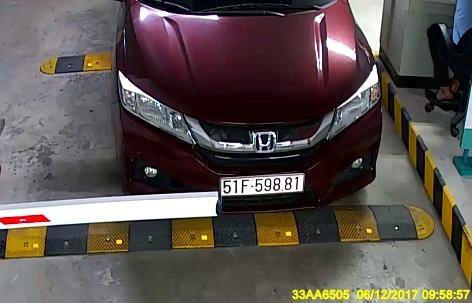plate: (218, 168, 306, 195)
